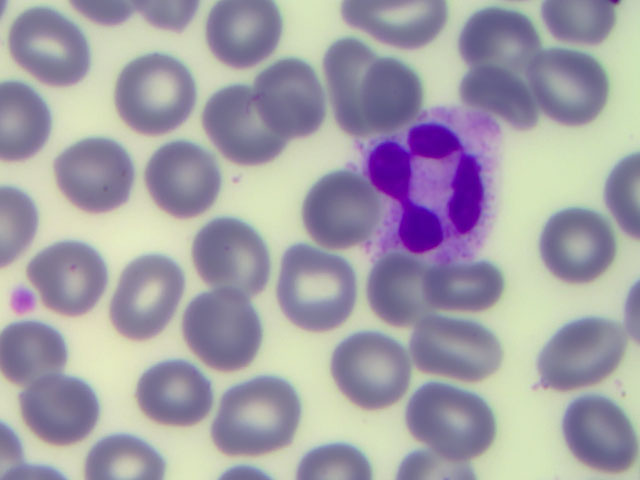Platelets: (1, 282, 40, 318)
RBC: (10, 6, 97, 87), (53, 130, 140, 211), (114, 53, 201, 134), (139, 139, 226, 220), (197, 86, 284, 167), (246, 55, 333, 136), (309, 31, 396, 112), (355, 49, 442, 130), (455, 2, 542, 83), (530, 45, 617, 126), (464, 56, 551, 137), (531, 201, 618, 282), (536, 311, 623, 392), (550, 392, 637, 473), (410, 309, 497, 390), (360, 253, 447, 334), (429, 242, 516, 323), (295, 172, 382, 253), (275, 245, 362, 326), (187, 219, 274, 300), (176, 294, 263, 375), (100, 256, 187, 337), (25, 237, 112, 318), (4, 318, 91, 399), (124, 350, 211, 431), (212, 370, 299, 451), (327, 327, 414, 408), (401, 379, 488, 460), (203, 1, 290, 81), (17, 373, 100, 448), (81, 431, 164, 480)
WBC: (361, 108, 511, 262)
